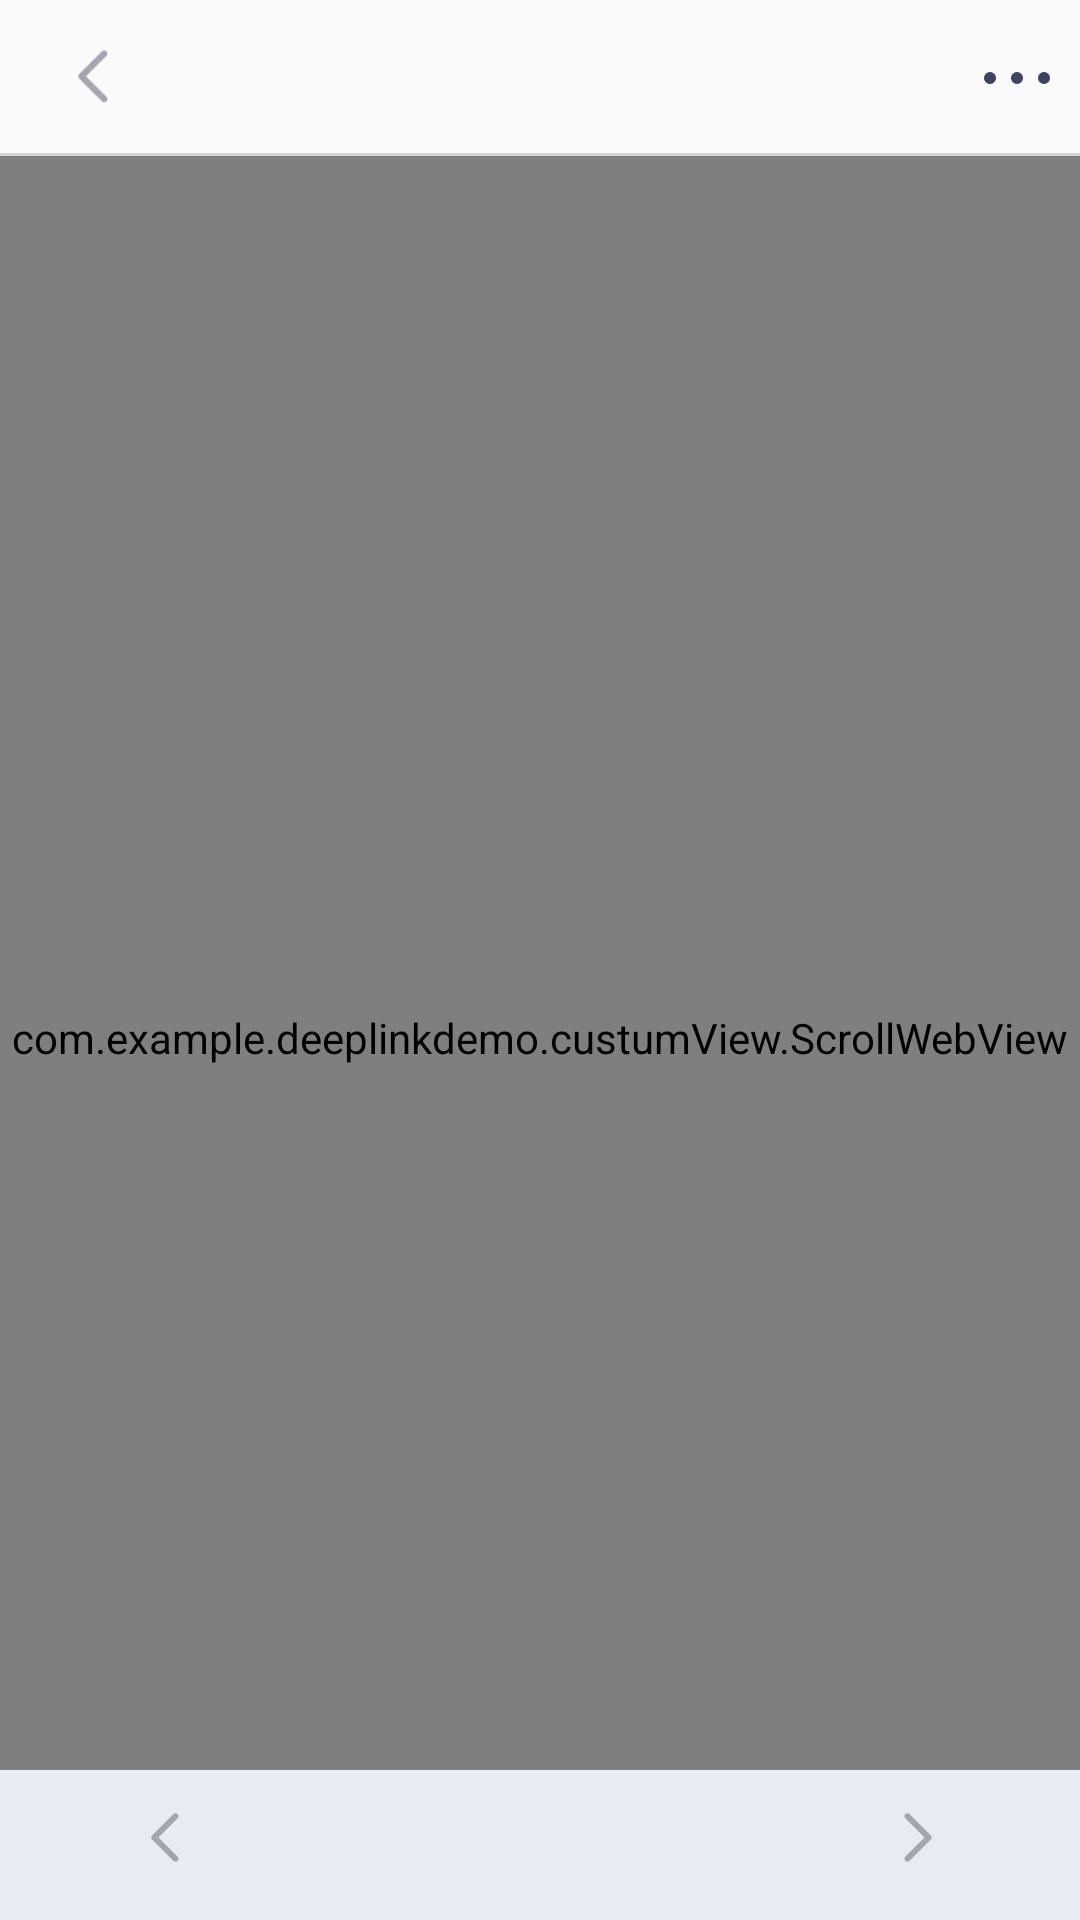

Locate icon controls on the screen. Image size 1080 × 1920, boxes as (x1, y1, x2, y2).
browser left: (78, 50, 108, 103), (151, 1813, 179, 1862)
browser more: (984, 72, 1050, 84)
browser right: (904, 1813, 932, 1862)
